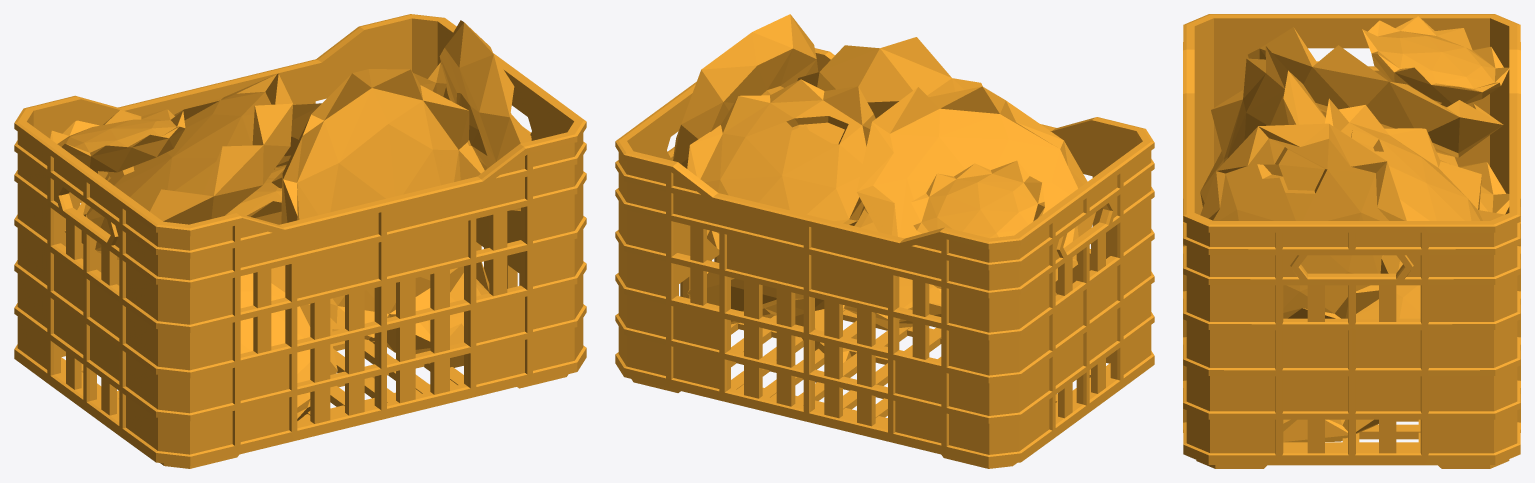
The model's file is SM_Crate_Plastic_Big_Sunflower_Heads.fbx.
3 views of the same model, side by side, from view 1: azimuth 30°, elevation 25°; view 2: azimuth 150°, elevation 25°; view 3: azimuth 270°, elevation 25° (orthographic). The views are drawn at different scales.
Parts seen in each view (by area): view 1: crate-plastic-big-sunflower-heads; view 2: crate-plastic-big-sunflower-heads; view 3: crate-plastic-big-sunflower-heads.
Part boxes in pixels (<box>): crate-plastic-big-sunflower-heads: <box>14,14,586,468</box>; crate-plastic-big-sunflower-heads: <box>615,14,1154,468</box>; crate-plastic-big-sunflower-heads: <box>1183,14,1520,468</box>.
Size of the model in its own units: 0.6083 by 0.4368 by 0.4083.
